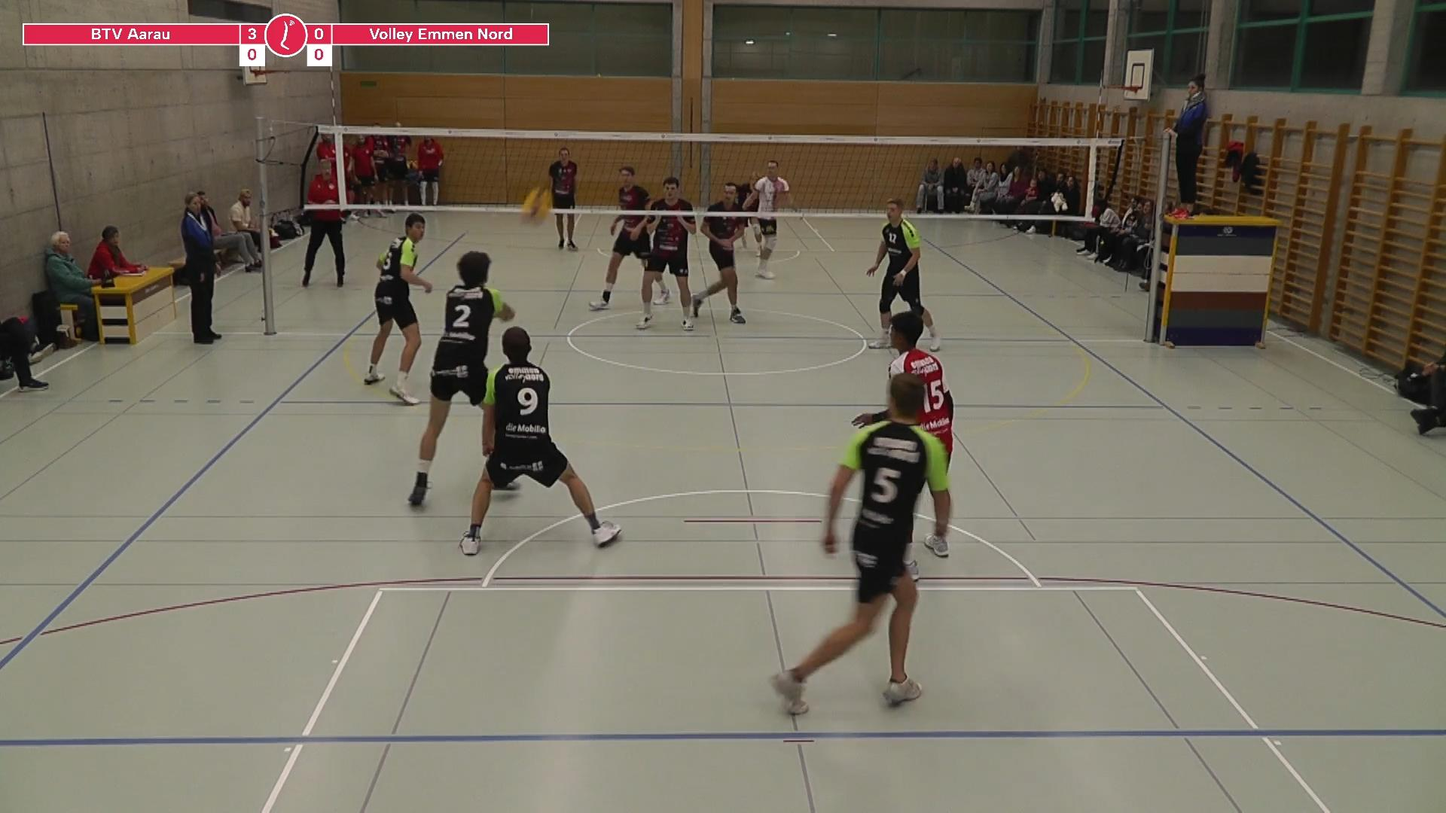Player: (772, 373, 950, 714), (459, 327, 620, 555), (364, 213, 432, 405), (866, 198, 939, 351), (889, 311, 953, 458), (636, 177, 696, 330), (691, 183, 746, 324), (590, 215, 650, 310), (749, 160, 789, 279), (548, 147, 578, 250), (740, 172, 761, 251)
Receive: (408, 246, 524, 514)
ball: (515, 181, 560, 226)
